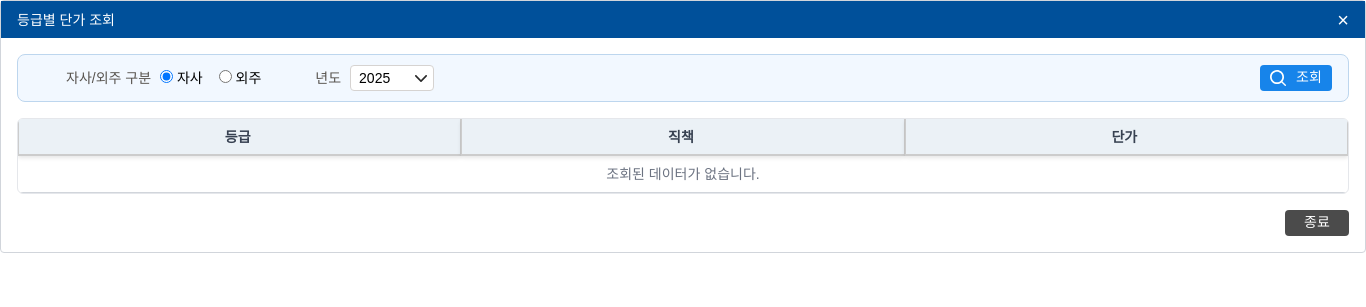
Scenario: COMZ030P00 - 등급별 단가 조회 팝업 › 데이터 표시 테스트 › 검색 결과가 정상적으로 표시된다
Click the button "조회" at [1296, 78], box [1260,65,1332,91]
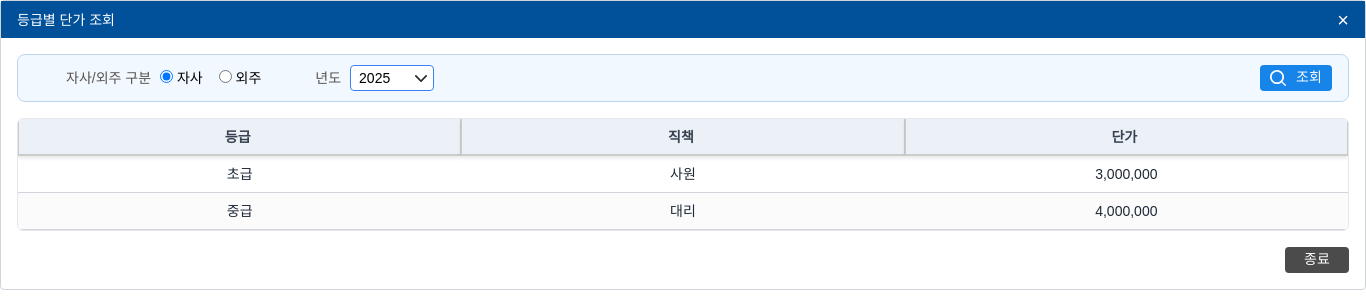
expect the text "초급" is shown: met, box [18,156,461,193]
expect the text "사원" is shown: met, box [461,156,905,193]
expect the text "3,000,000" is shown: met, box [905,156,1348,193]
